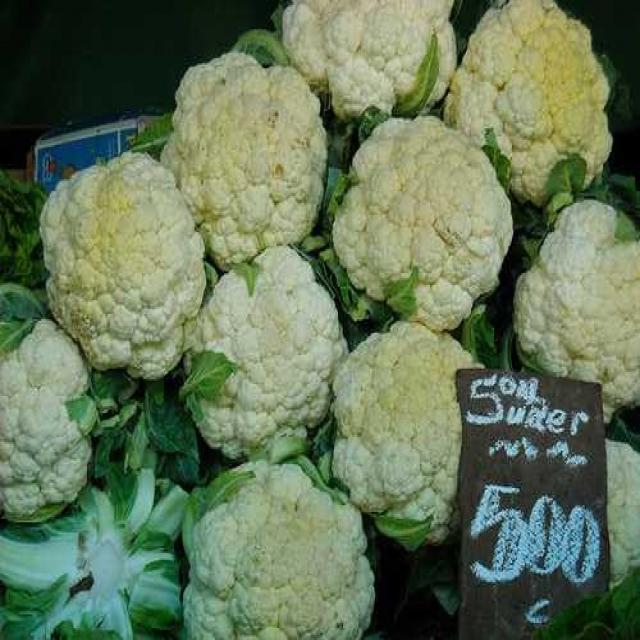cauliflower: (0, 0, 640, 640), (325, 82, 550, 325), (32, 134, 222, 386), (328, 312, 528, 550), (143, 447, 388, 640), (146, 49, 346, 273), (172, 238, 338, 483), (431, 0, 623, 208), (493, 178, 640, 442), (0, 268, 111, 551), (271, 0, 495, 125)
